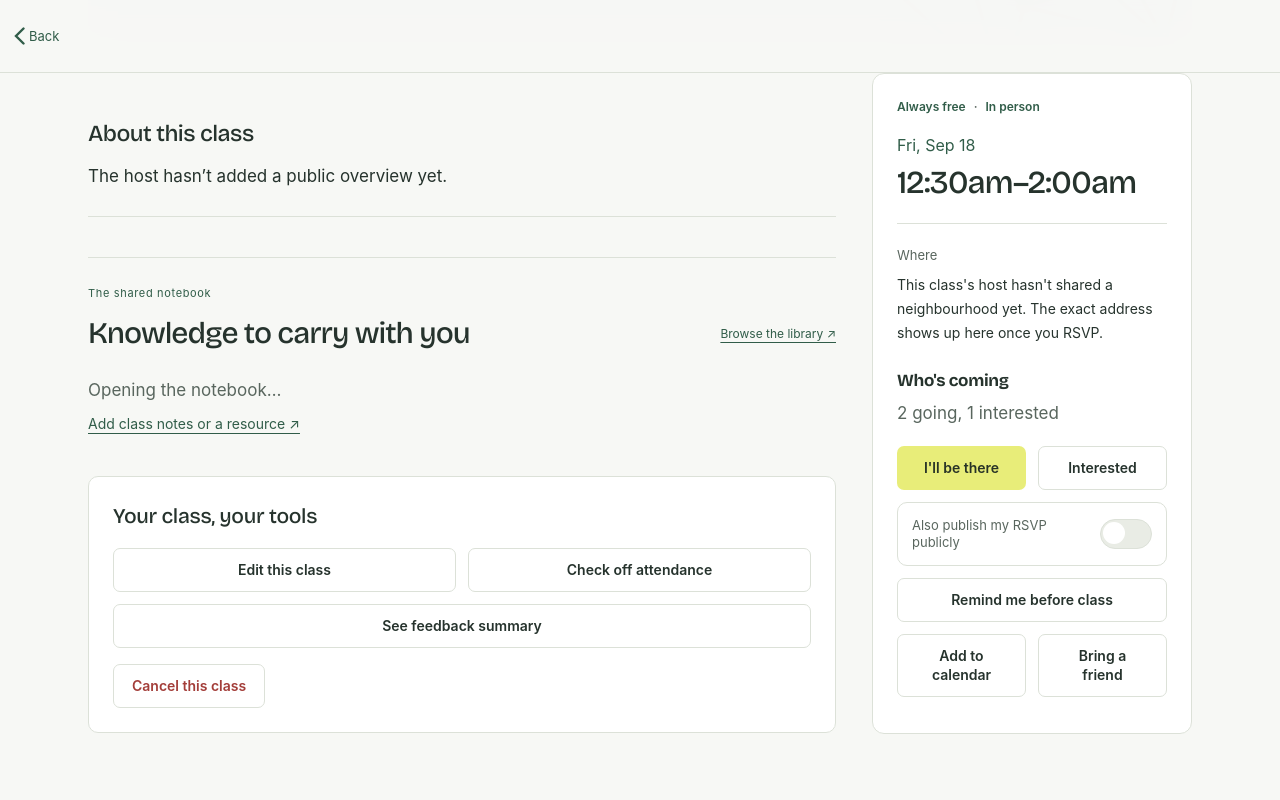
Test: EventScreen › cancelling a class › keeps the host on the page with a way back when the cancel fails
(page scrolled)
Click the button "Cancel this class": (189, 686) [113, 664, 265, 708]
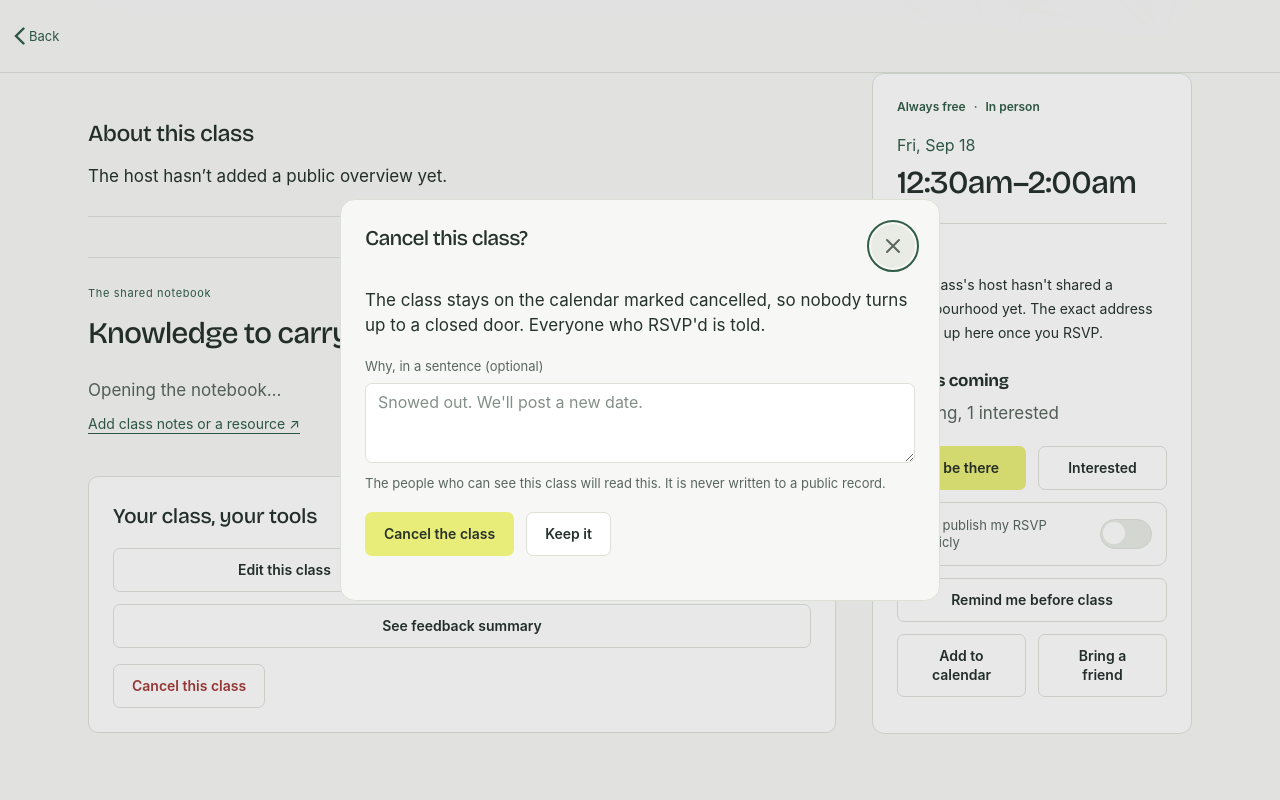
Click the button "Cancel the class": (440, 534) [365, 512, 514, 556]
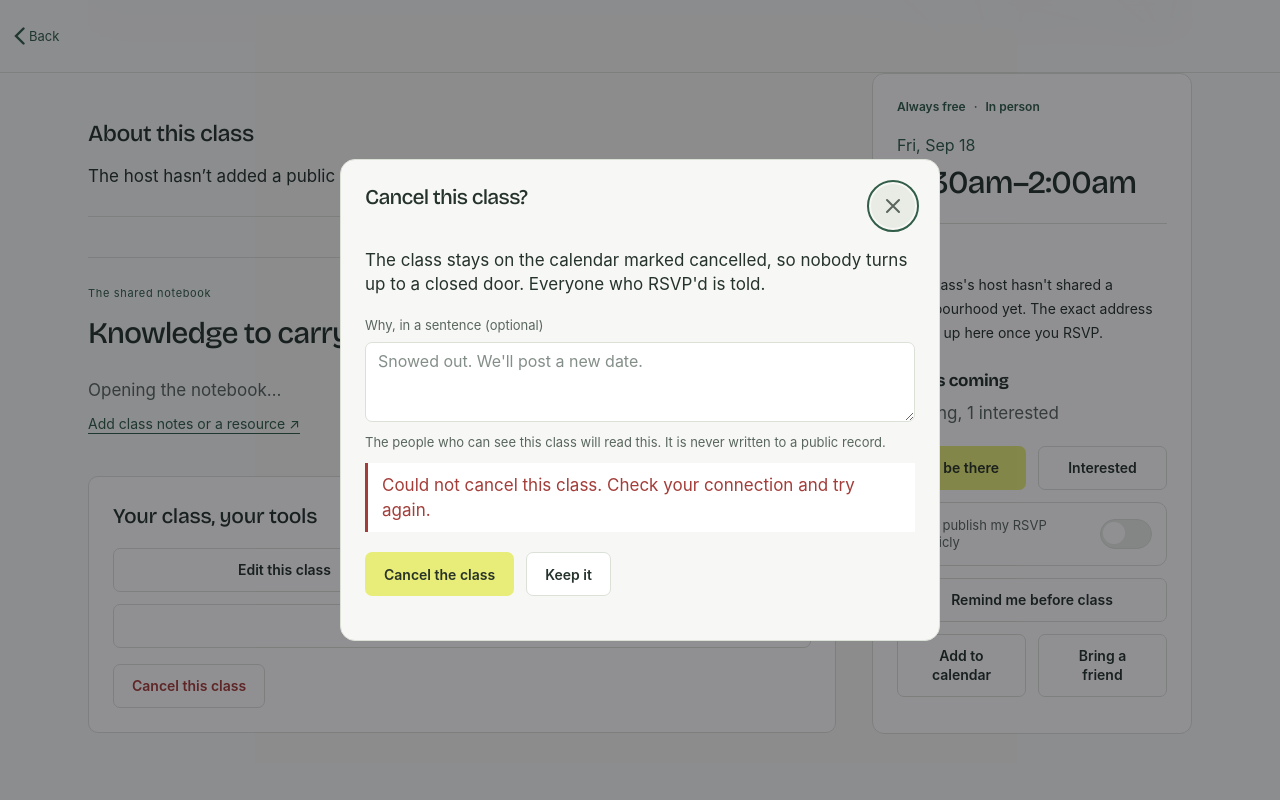
expect the message shows "Could not cancel this class": met, box [382, 475, 855, 520]
